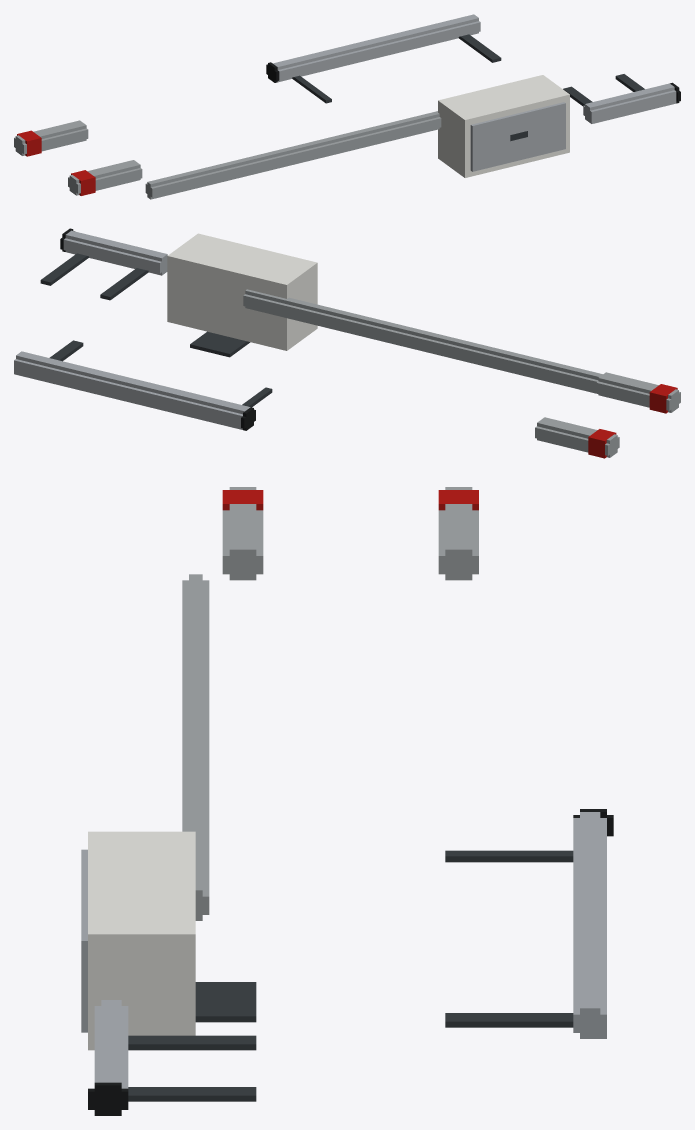
Rendered from tanker_truck_valve_gear.glb.
3 views of the same model, one above another, from view 1: azimuth 30°, elevation 25°; view 2: azimuth 150°, elevation 25°; view 3: azimuth 270°, elevation 25° (orthographic). The views are drawn at different scales.
Parts seen in each view (by area): view 1: body:compound; view 2: body:compound; view 3: body:compound.
Part boxes in pixels (x1=…): body:compound: x1=14, y1=14, x2=680, y2=199; body:compound: x1=14, y1=228, x2=680, y2=458; body:compound: x1=81, y1=487, x2=613, y2=1115.
Size of the model in its own units: 6.09 by 0.625 by 2.47.
